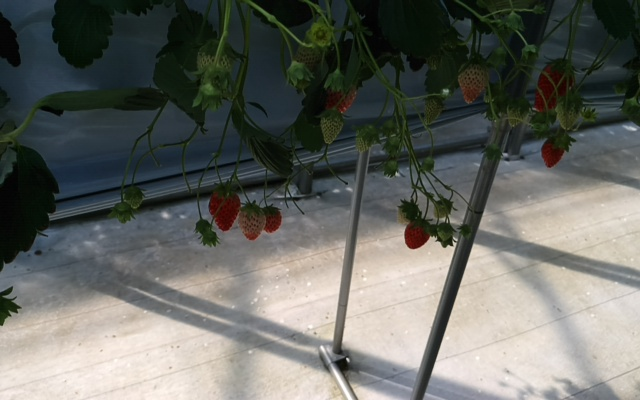GreenStrawberry: (197, 38, 234, 98), (458, 57, 489, 104), (293, 36, 326, 76), (555, 91, 583, 131), (238, 203, 267, 240), (319, 108, 343, 144), (353, 121, 378, 154), (505, 97, 529, 127), (422, 95, 443, 127), (395, 202, 417, 225), (431, 198, 453, 220), (124, 187, 144, 208)
MatureStrawberry: (534, 57, 577, 113), (207, 187, 241, 234), (324, 74, 357, 116), (402, 218, 430, 251), (541, 135, 565, 169), (260, 204, 283, 236)
